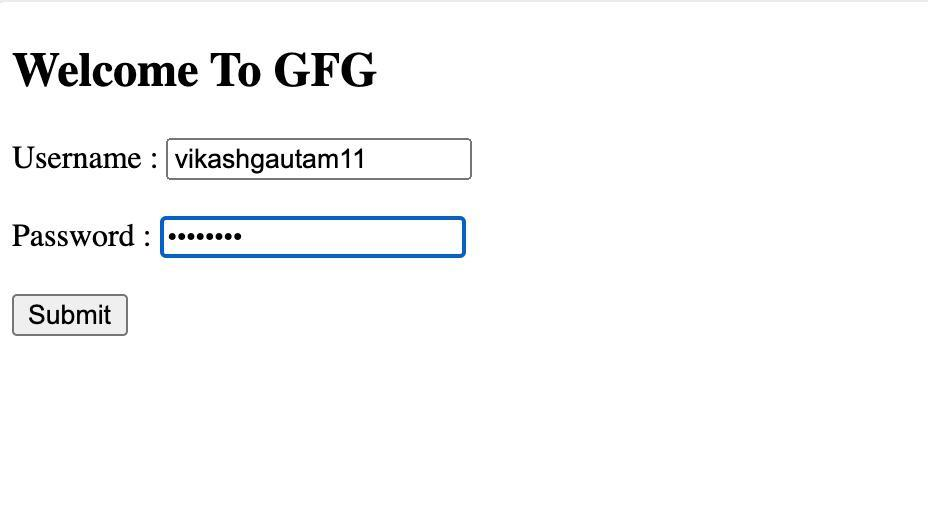button: (10, 291, 134, 340)
input: (167, 135, 475, 186), (159, 214, 473, 263)
label: (13, 136, 161, 182), (12, 215, 156, 261)
